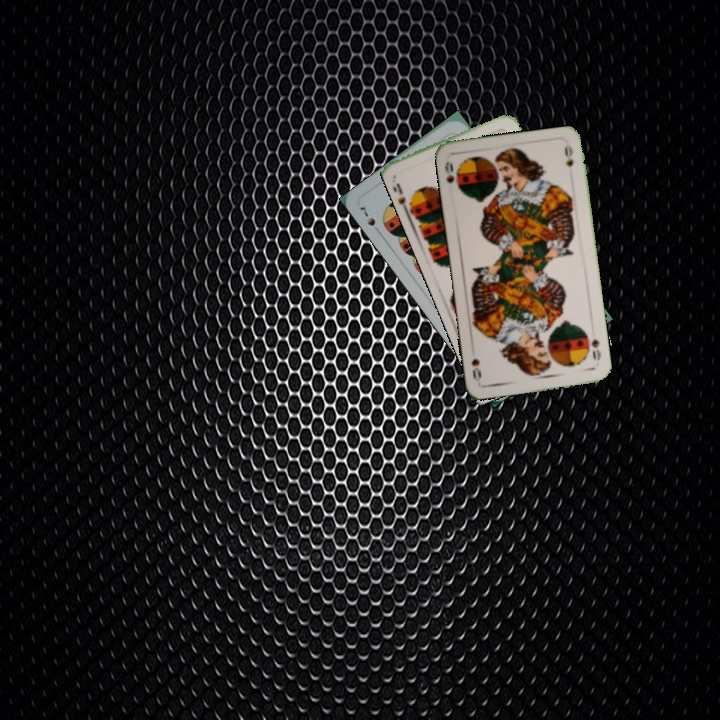S7: (355, 203, 383, 237)
S9: (390, 179, 419, 213)
SO: (440, 158, 457, 186), (587, 336, 604, 363)
